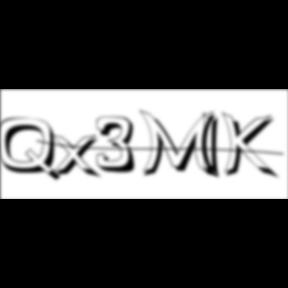3: (97, 116, 143, 176)
I: (203, 110, 227, 182)
K: (222, 110, 280, 182)
M: (139, 108, 223, 181)
Q: (0, 117, 64, 184)
x: (50, 132, 106, 181)
